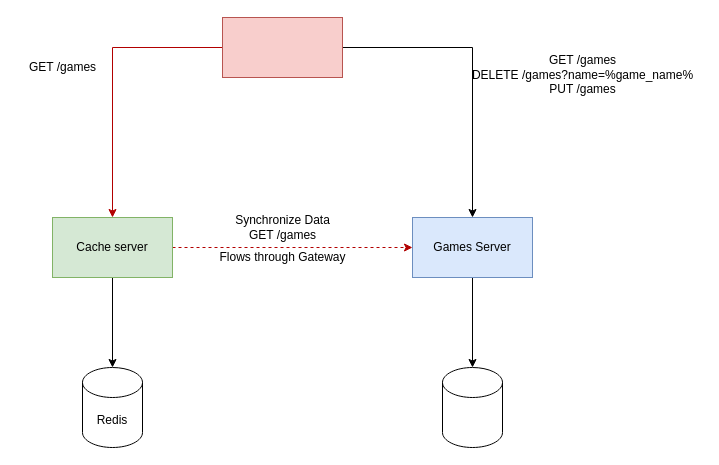
The diagram is 719 pixels wide and 465 high, and some of its shapes have lost their labels. The centre of each missing label's shape, as x and y in pixels:
gateway: pixel 282 47
MongoDB: pixel 472 407
